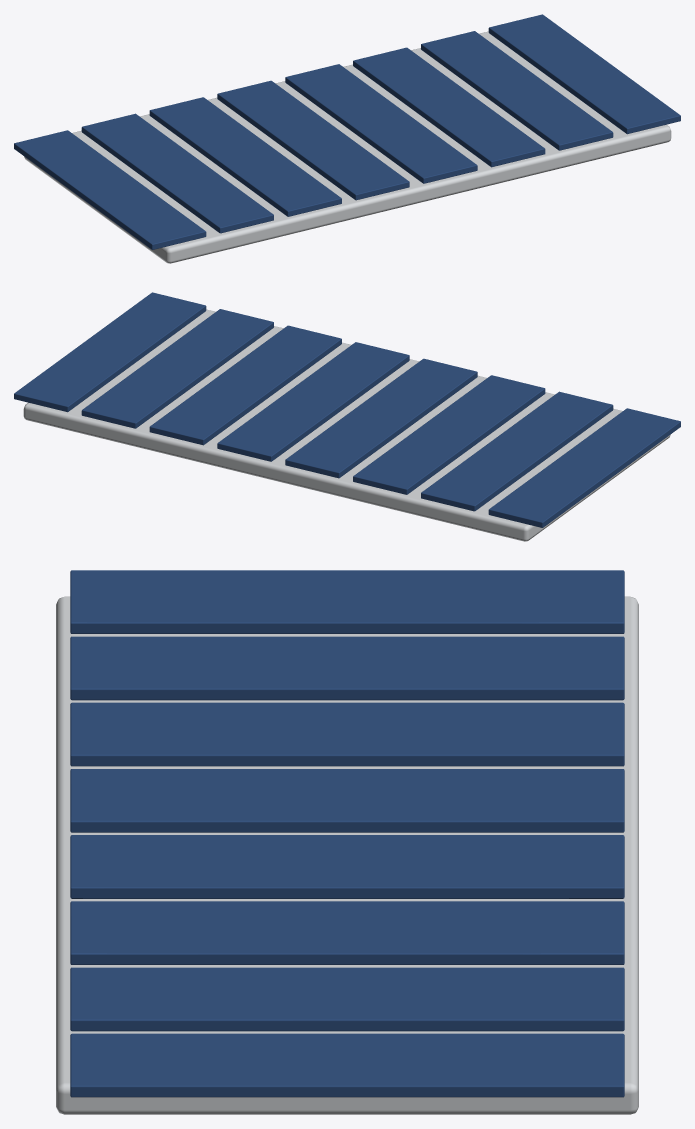
3 views of the same model, one above another, from view 1: azimuth 30°, elevation 25°; view 2: azimuth 150°, elevation 25°; view 3: azimuth 270°, elevation 25° (orthographic). The views are drawn at different scales.
Visible parts, largest first — view 1: solar-wing; view 2: solar-wing; view 3: solar-wing.
Part boxes in pixels (x1,y1,x2,y2): solar-wing: (14, 14, 680, 263); solar-wing: (14, 292, 680, 541); solar-wing: (56, 570, 638, 1114).
Bounding box in the file's own units: 4.19 × 0.1651 × 2.
